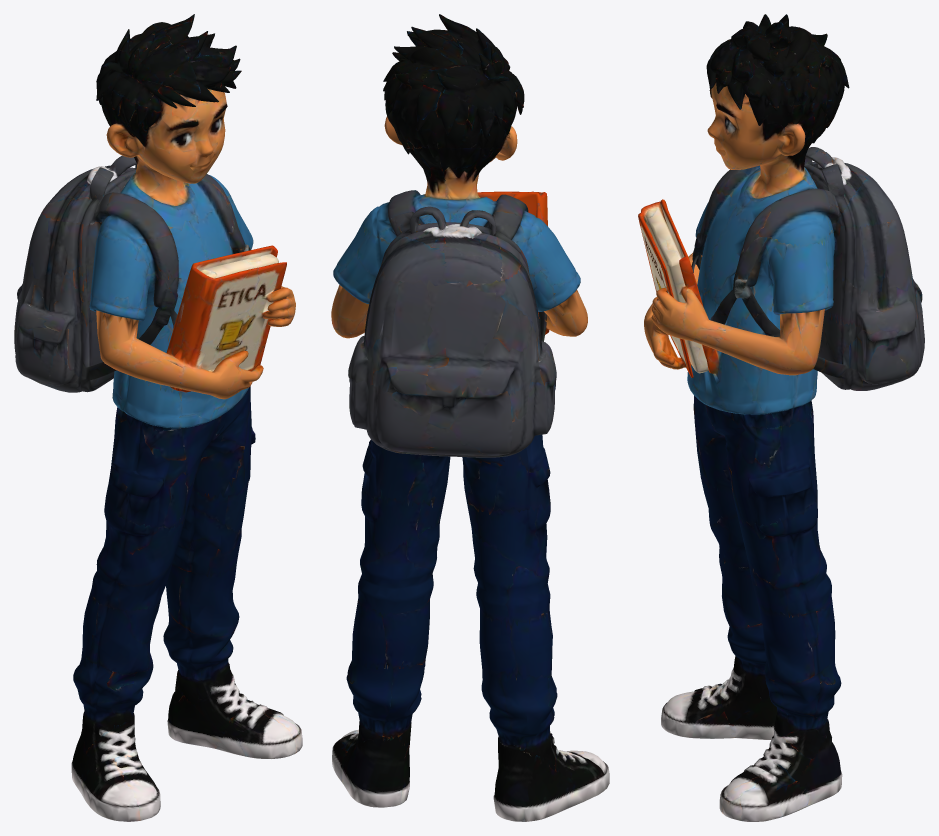
3 views of the same model, side by side, from view 1: azimuth 30°, elevation 25°; view 2: azimuth 150°, elevation 25°; view 3: azimuth 270°, elevation 25° (orthographic). The views are drawn at different scales.
Parts seen in each view (by area): view 1: geometry_0; view 2: geometry_0; view 3: geometry_0.
Part boxes in pixels (x1,y1,x2,y2): geometry_0: (14,14,302,821); geometry_0: (331,14,609,821); geometry_0: (638,14,924,821).
Bounding box in the file's own units: 0.4606 × 1.33 × 0.4664.
1 material, 1 textured.
